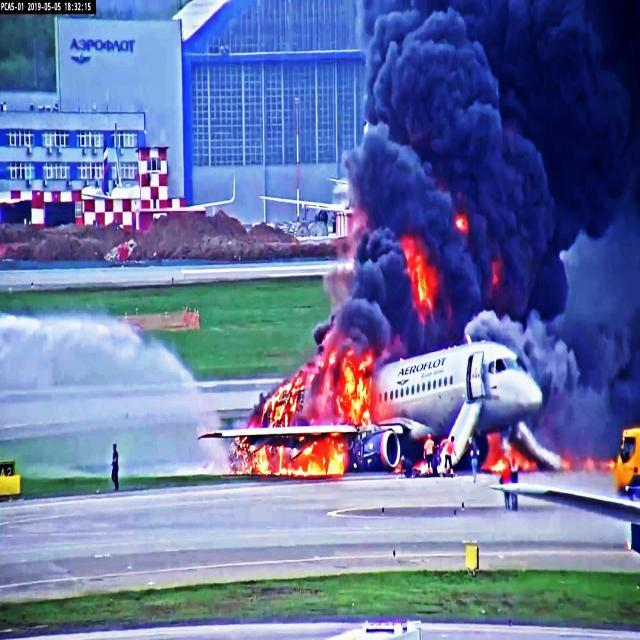Fire: (255, 448, 344, 480), (340, 357, 372, 423)
Smoke: (375, 13, 561, 304)
